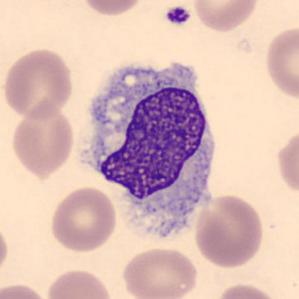Monocyte: (72, 48, 225, 244)
Platelets: (164, 4, 192, 26)
RBC: (191, 192, 267, 269), (1, 46, 76, 120), (9, 101, 76, 179), (48, 184, 119, 254), (119, 244, 200, 299), (262, 23, 298, 102), (190, 0, 260, 34), (44, 267, 115, 299), (274, 124, 299, 198), (211, 281, 282, 299), (78, 0, 147, 17), (0, 281, 51, 299), (0, 219, 11, 281)
